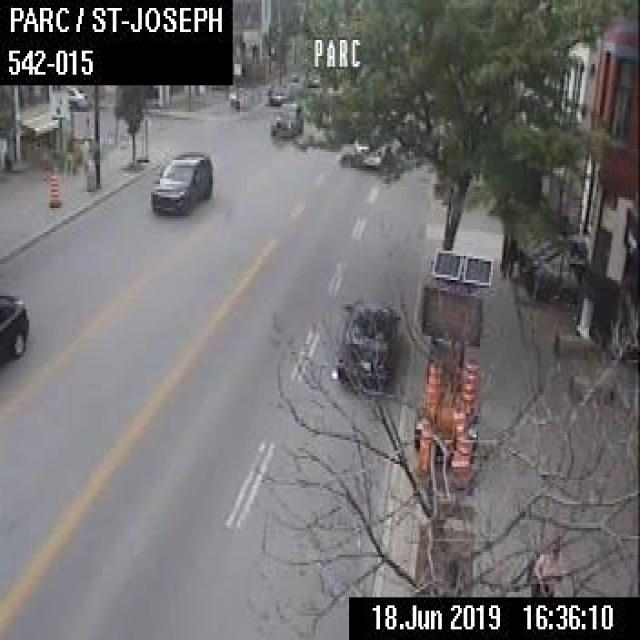construction: (411, 248, 493, 457), (449, 402, 468, 462), (418, 415, 436, 477), (423, 360, 441, 418), (460, 359, 478, 416), (47, 172, 59, 206)
vehicle: (333, 297, 401, 397), (148, 150, 212, 216), (0, 285, 31, 368), (268, 98, 304, 138), (352, 134, 386, 166), (65, 82, 87, 108), (268, 81, 292, 103)
